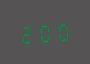two: (18, 21, 34, 44)
zero: (36, 20, 52, 43), (53, 19, 69, 42)
